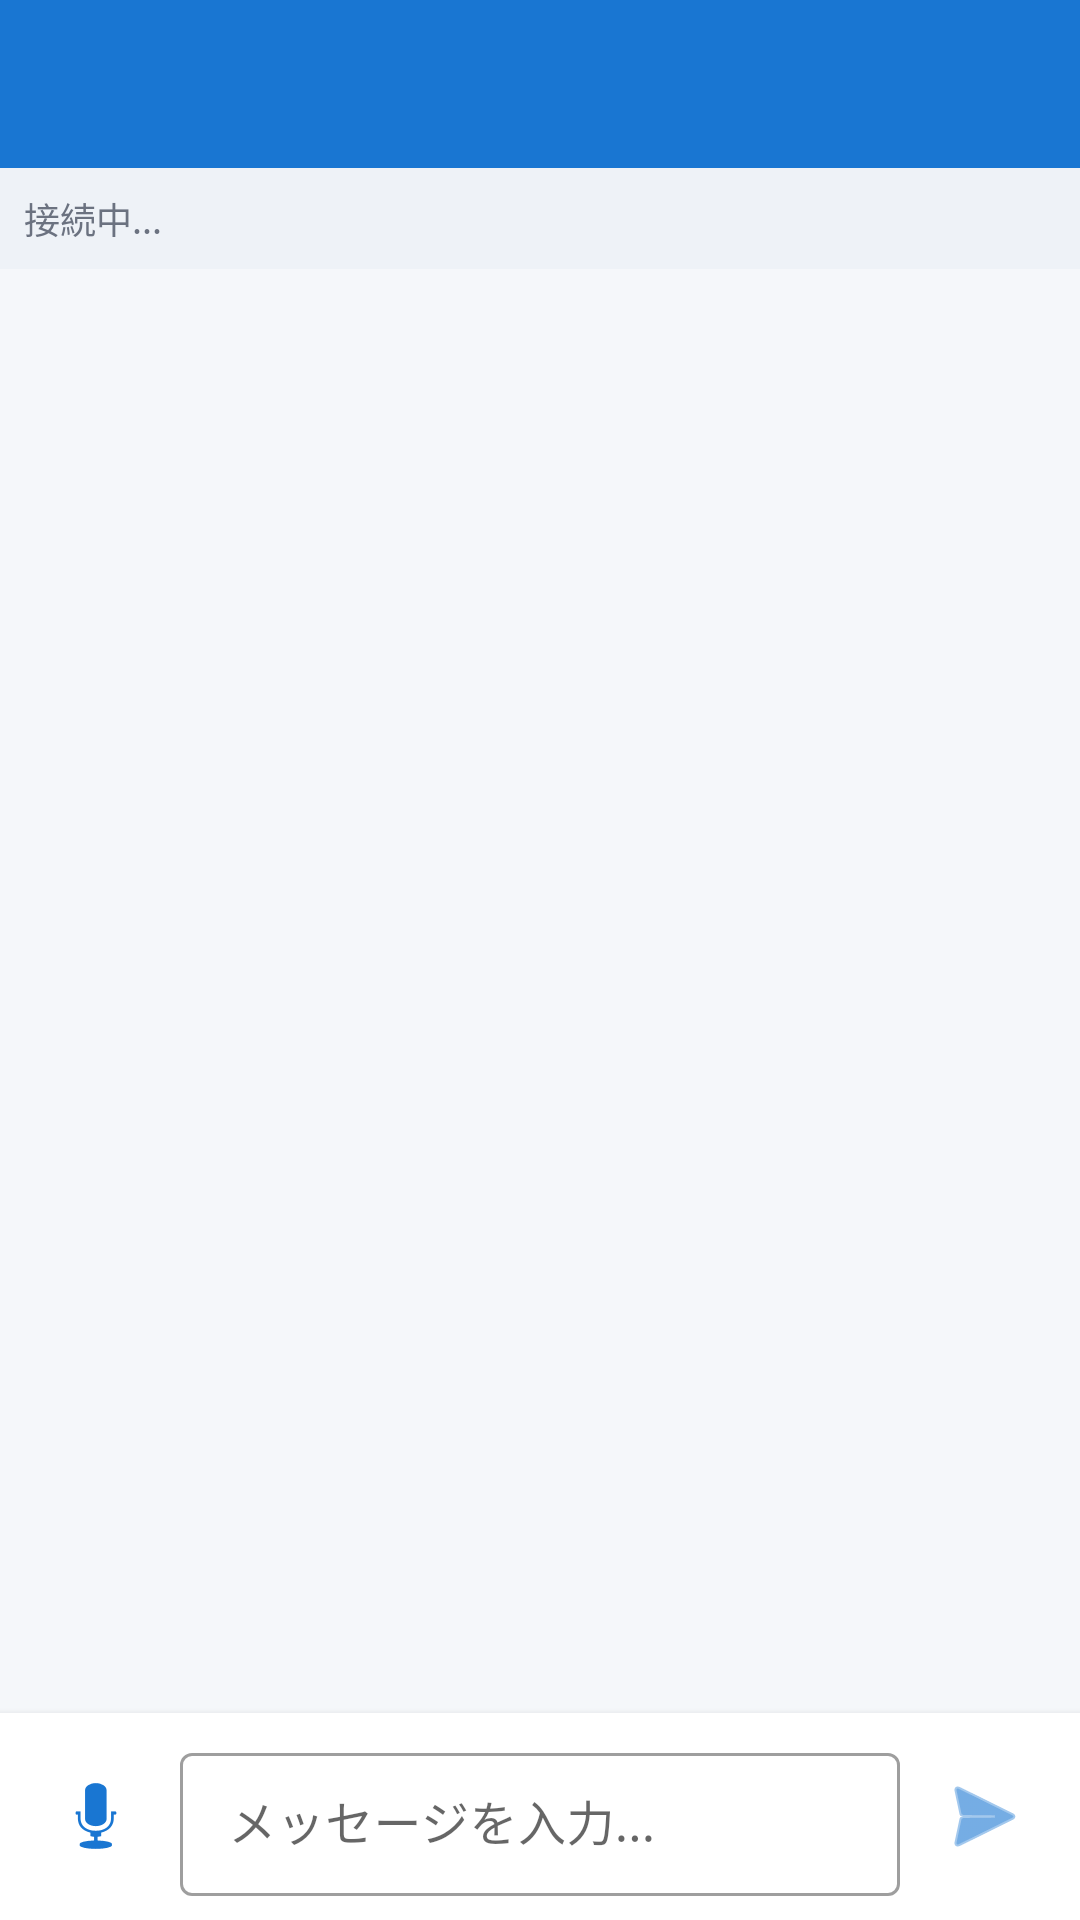

Icon bounding boxes for this 1080×1920 phone screenshot, format (x1, y1, x2, y2):
マイクボタン: (75, 1783, 117, 1849)
送信ボタン: (954, 1786, 1016, 1847)
